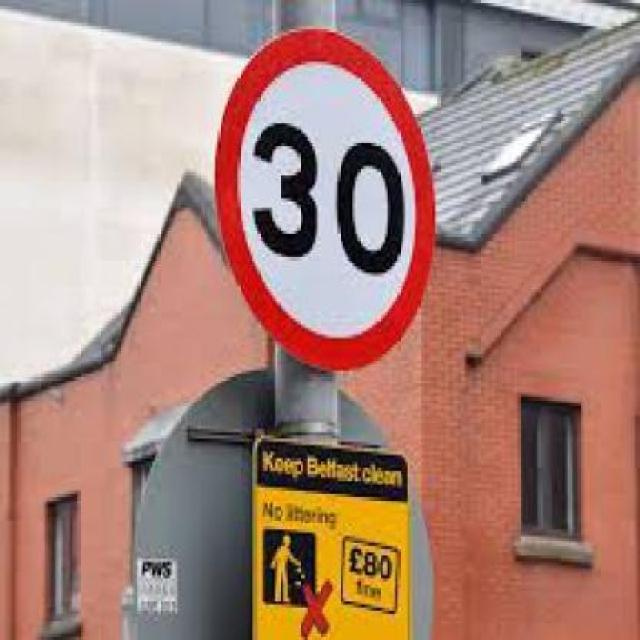forb_speed_over_30: (216, 27, 436, 370)
